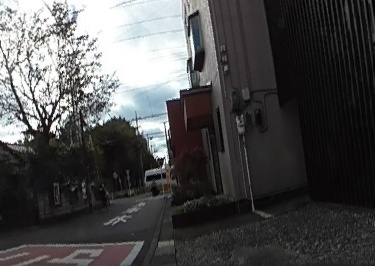person: (96, 184, 107, 205)
